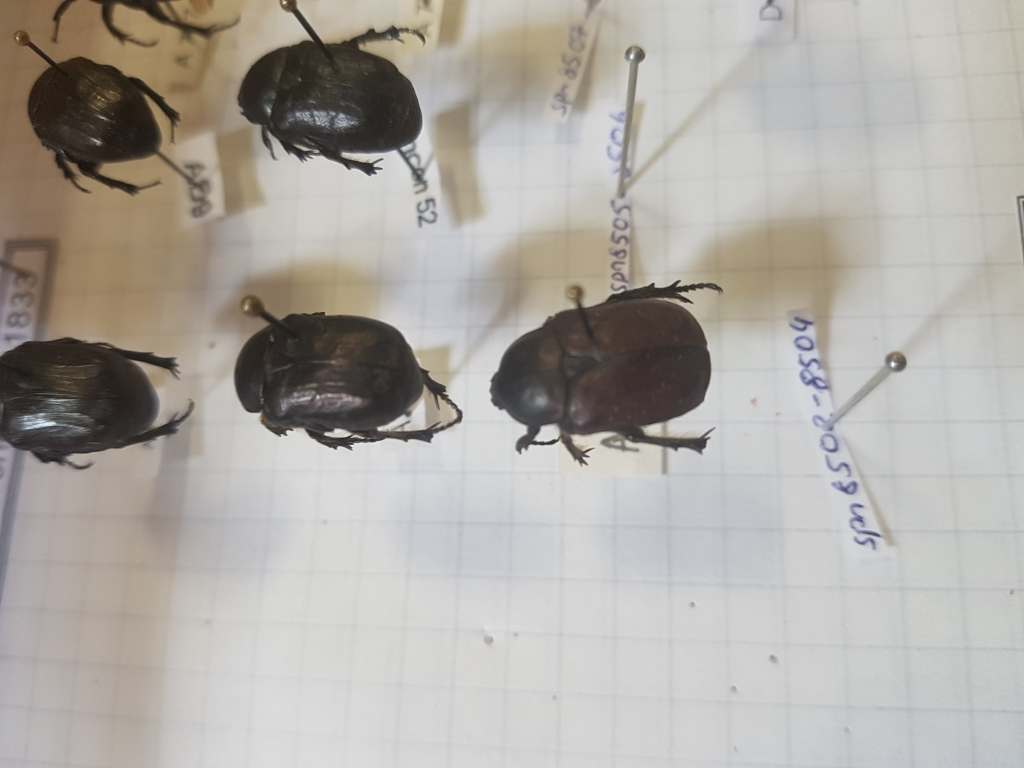Protaetia_vidua: (504, 268, 739, 476), (235, 284, 470, 454)
